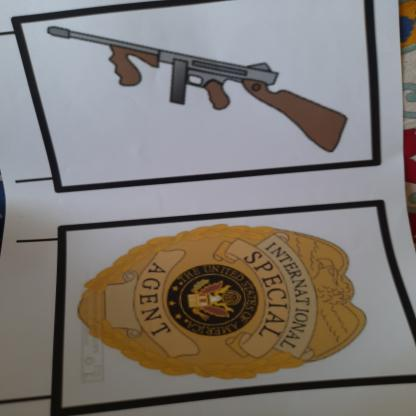Bootlegger: (41, 16, 369, 167)
G-man: (64, 221, 395, 387)
